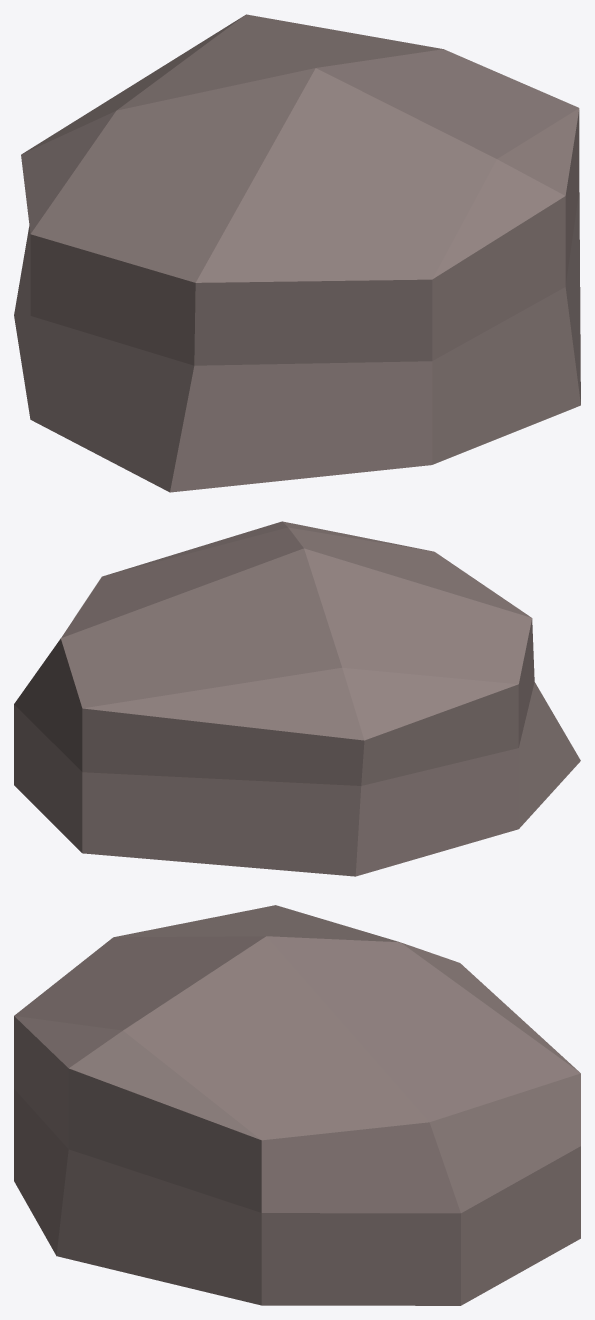
The model's file is RockRed1.fbx.
The picture shows the model from 3 angles, top to bottom: view 1: azimuth 30°, elevation 25°; view 2: azimuth 150°, elevation 25°; view 3: azimuth 270°, elevation 25°; orthographic projection. The views are drawn at different scales.
Parts seen in each view (by area): view 1: pCube21; view 2: pCube21; view 3: pCube21.
Boxes of the visible parts, bbox=[...] form: pCube21: bbox=[14, 14, 580, 492]; pCube21: bbox=[14, 521, 580, 876]; pCube21: bbox=[14, 905, 580, 1305].
Size of the model in its own units: 3.01 by 1.54 by 3.07.
